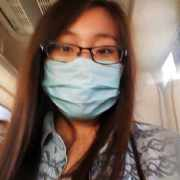face_mask: (45, 7, 122, 119)
